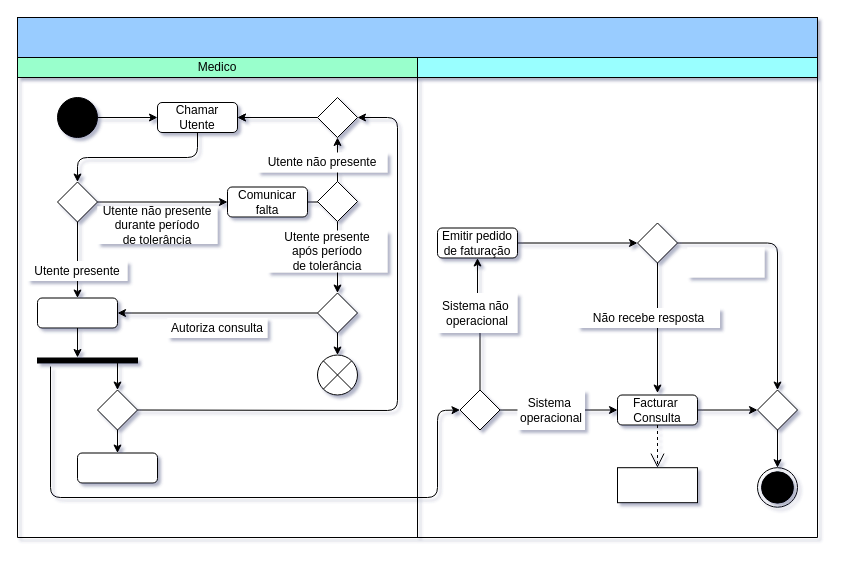
Image size: 842x562. Some labels were removed from this diagram. Here are the shapes that lost their labels. From the top down, the centre of each, then its label:
pixel 417 37: Consulta e Faturação
pixel 617 67: Sistema de Faturação
pixel 725 262: Recebe resposta
pixel 77 312: Efectuar Consulta
pixel 117 467: Fechar Consulta
pixel 657 485: Factura
